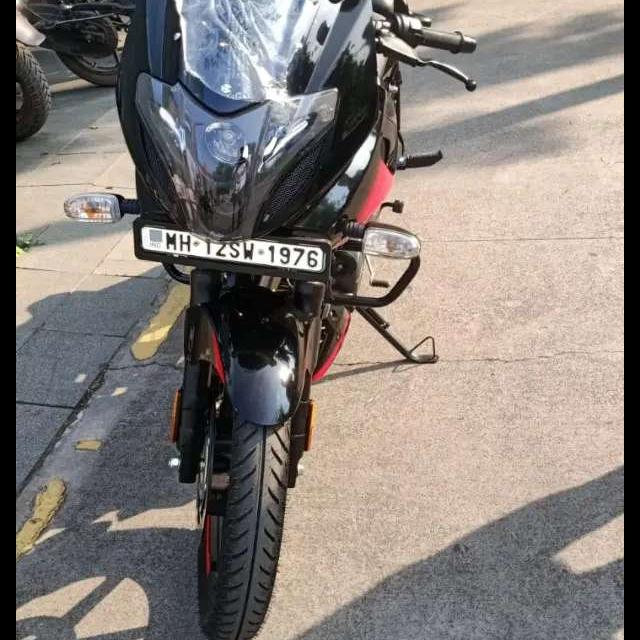Indian_Number_Plate: (133, 223, 327, 278)
